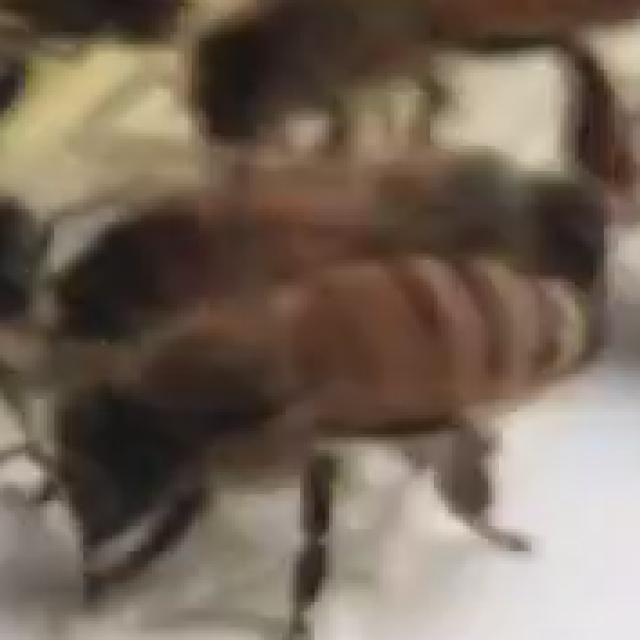honeybee: (48, 267, 622, 617), (34, 132, 618, 312), (176, 0, 640, 214)
